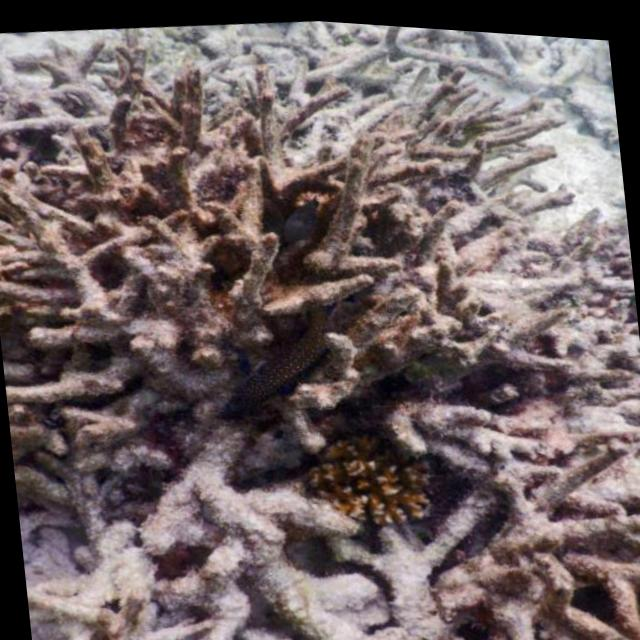Dead Coral: (35, 59, 602, 634)
